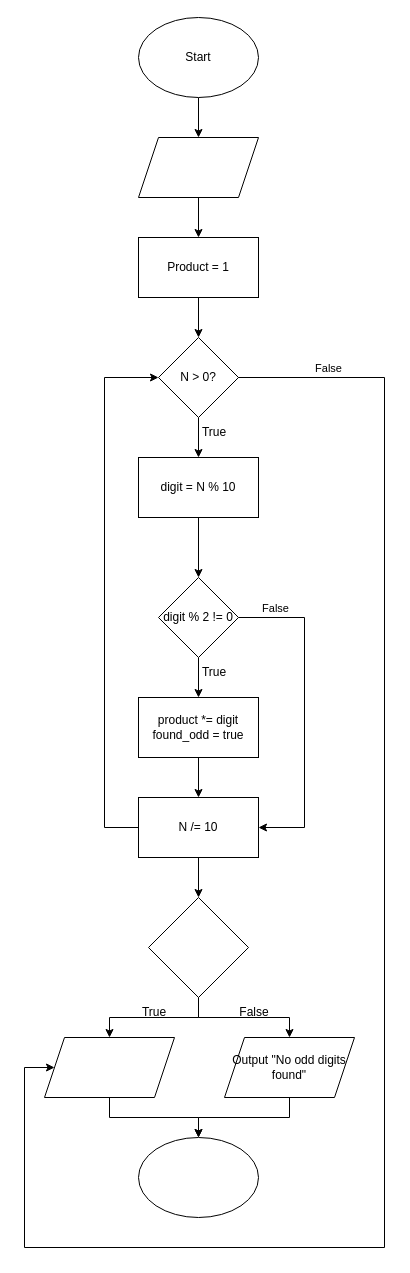
The diagram is 410 pixels wide and 1273 high, and some of its shapes have lost their labels. The shapes that lost their labels are listed below. From the top down, each one's box as (x1, y1, x2, y2) in pixels, then its label:
(138, 136, 258, 198): Input N found_odd = false
(148, 896, 248, 998): found_odd == true?
(44, 1036, 174, 1098): Output product
(138, 1136, 258, 1218): End
